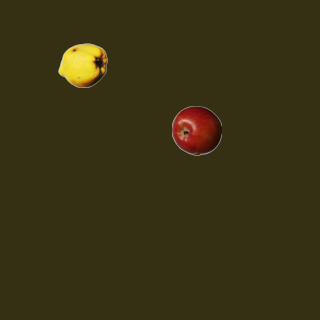Apple Braeburn: (171, 105, 221, 155)
Quince: (57, 40, 107, 90)
